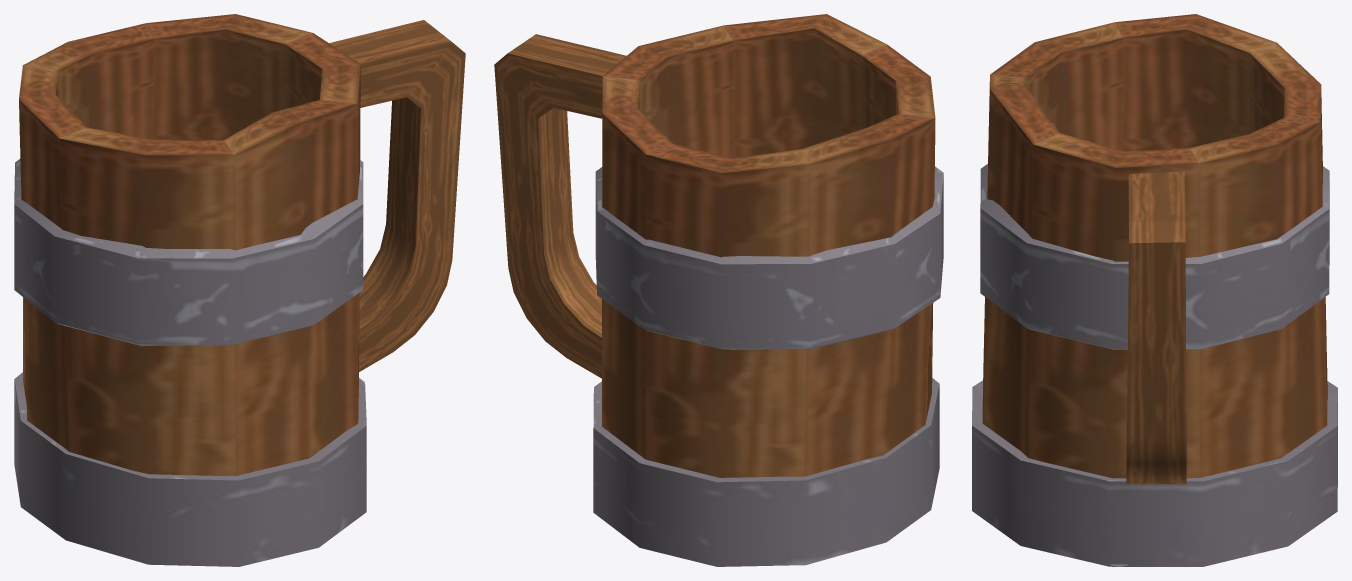
File: Mug.gltf
3 renders of one model, left to right at view 1: azimuth 30°, elevation 25°; view 2: azimuth 150°, elevation 25°; view 3: azimuth 270°, elevation 25°, orthographic. The views are drawn at different scales.
Parts seen in each view (by area): view 1: Mug; view 2: Mug; view 3: Mug.
Part boxes in pixels (<box>): Mug: <box>14,14,465,566</box>; Mug: <box>494,14,943,566</box>; Mug: <box>972,14,1337,566</box>.
Size of the model in its own units: 0.1921 by 0.1839 by 0.1468.
2 materials, 2 textured.
